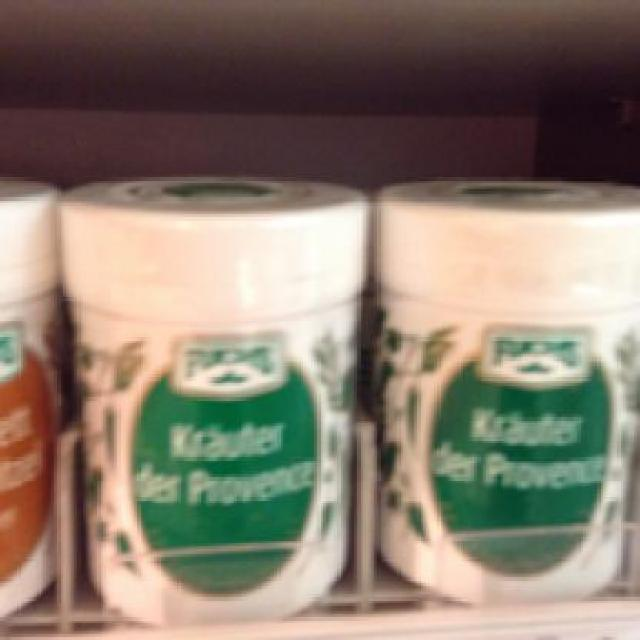Spices: (48, 167, 366, 624), (374, 171, 637, 604)
